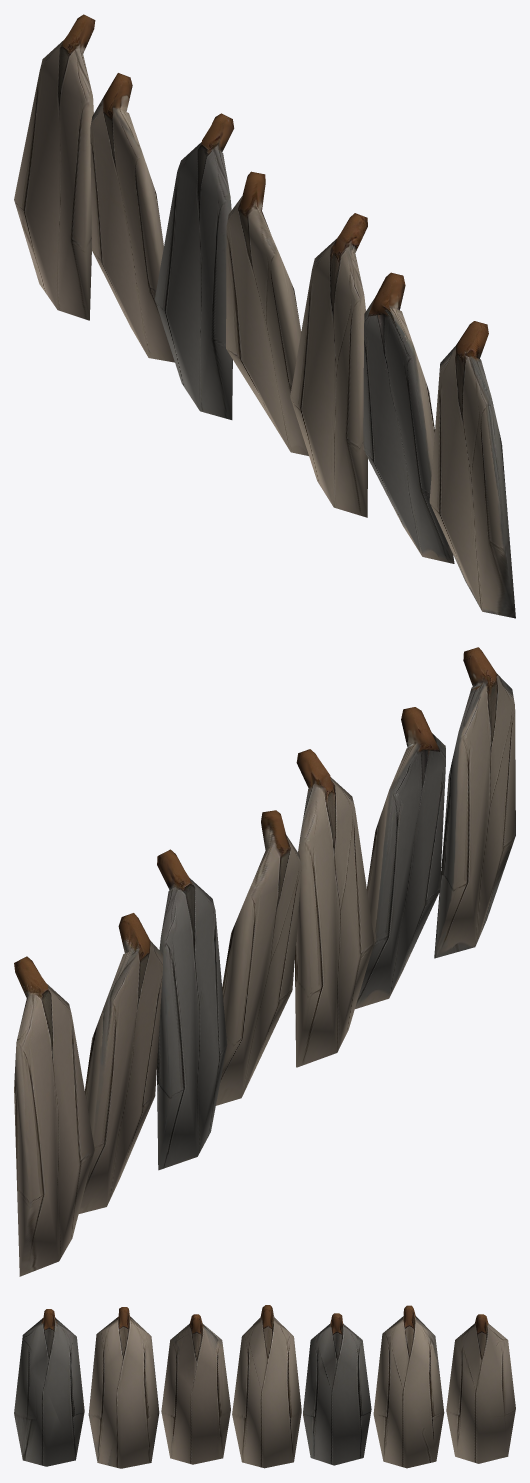
The model's file is tripo_convert_352808cf-3d74-4489-978d-6695947aef5a.fbx.
The picture shows the model from 3 angles, top to bottom: view 1: azimuth 30°, elevation 25°; view 2: azimuth 150°, elevation 25°; view 3: azimuth 270°, elevation 25°; orthographic projection. The views are drawn at different scales.
Parts seen in each view (by area): view 1: tripo_node_352808cf; view 2: tripo_node_352808cf; view 3: tripo_node_352808cf.
Part boxes in pixels (x1=…): tripo_node_352808cf: x1=14, y1=14, x2=515, y2=618; tripo_node_352808cf: x1=14, y1=647, x2=515, y2=1276; tripo_node_352808cf: x1=14, y1=1305, x2=515, y2=1468.
Size of the model in its own units: 0.0996 by 0.334 by 0.998.
1 material, 1 textured.
